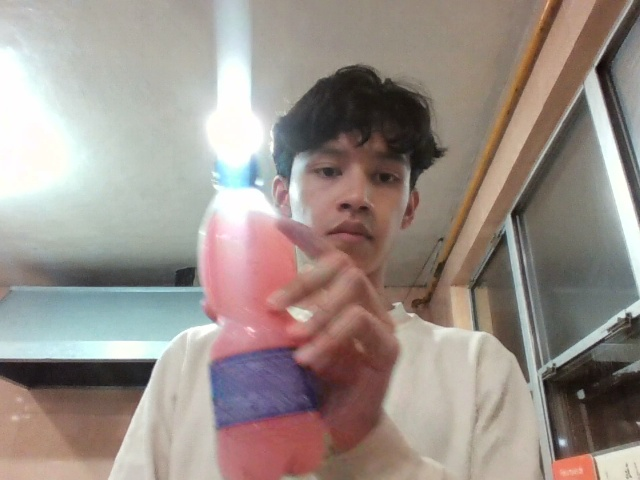botella: (138, 105, 371, 480)
